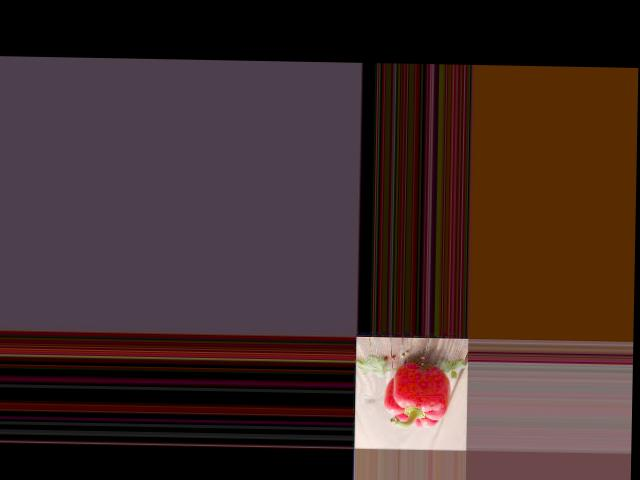bell_pepper: (380, 360, 455, 433)
